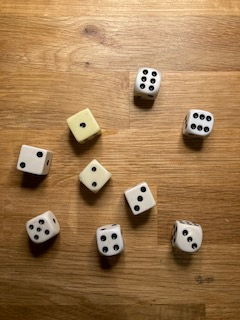five: (25, 210, 61, 245)
four: (94, 223, 126, 258)
one: (64, 106, 105, 145)
six: (182, 108, 216, 138), (133, 66, 162, 99)
three: (122, 181, 158, 216), (170, 219, 203, 255)
two: (15, 143, 55, 178), (77, 158, 114, 195)
